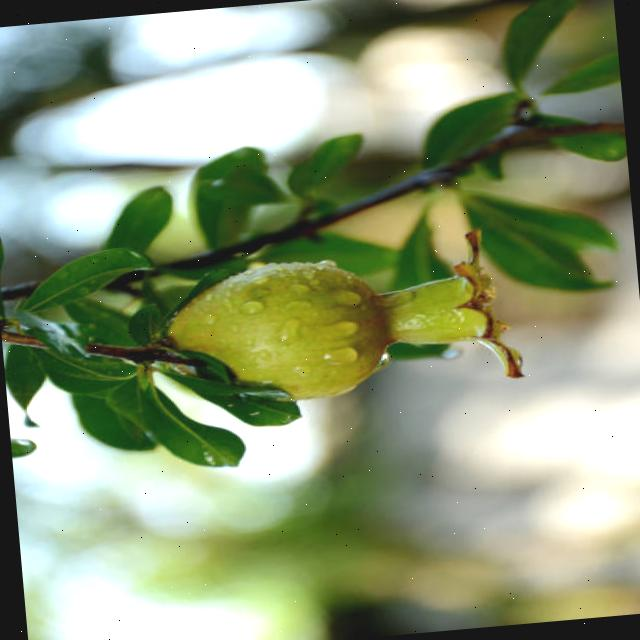Unripe: (149, 221, 526, 416)
